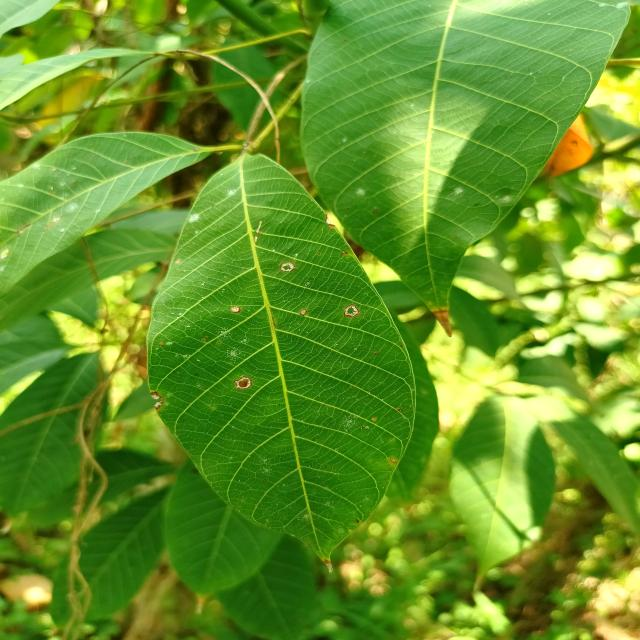Colletotrichum: (234, 376, 252, 389), (343, 305, 360, 317), (280, 262, 295, 272), (230, 306, 240, 313), (300, 309, 307, 316), (375, 352, 378, 354), (218, 341, 221, 343), (318, 253, 321, 255)
Leaf-Blight: (433, 310, 453, 337), (326, 216, 333, 225), (448, 346, 452, 356)
